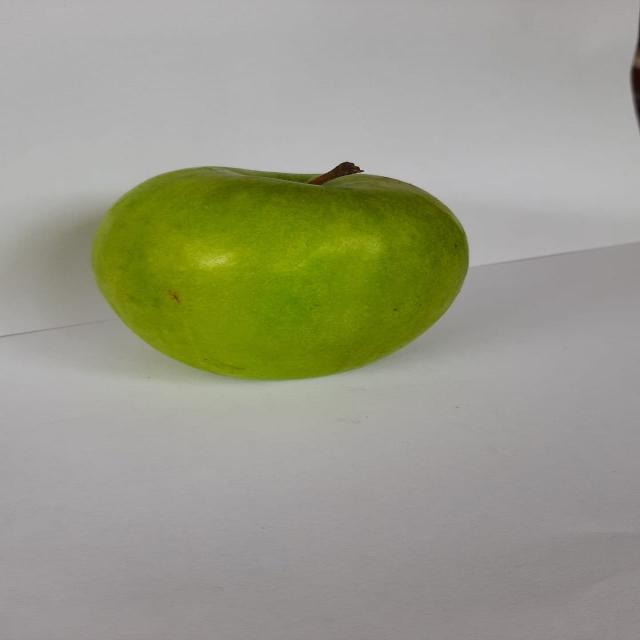50-_ripeness: (73, 150, 476, 396)
